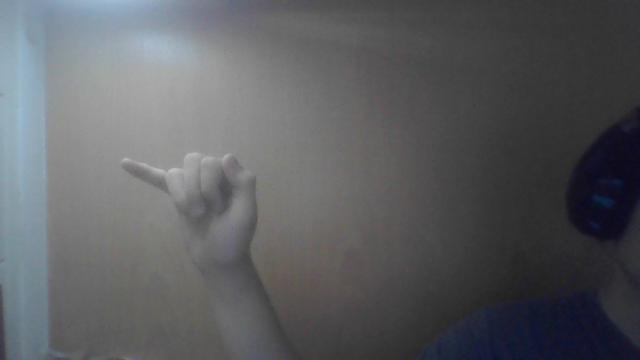Right: (122, 151, 266, 265)
